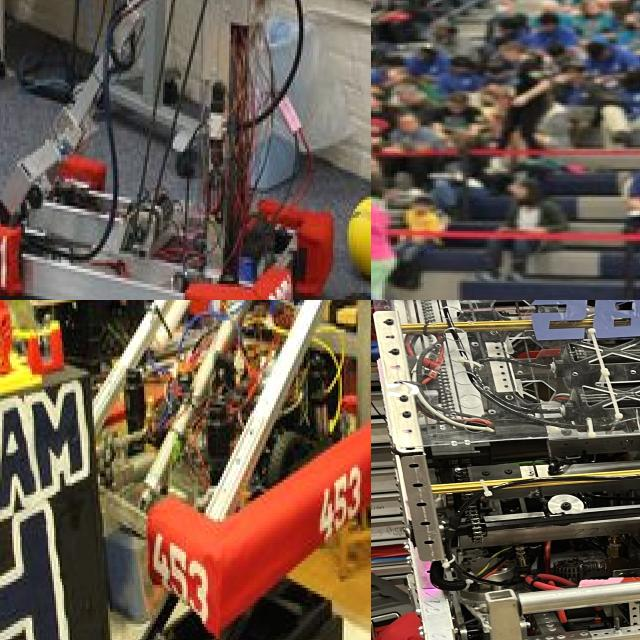FRC-Robots: (0, 300, 371, 640), (0, 0, 371, 300), (371, 300, 640, 640), (371, 0, 640, 300)
